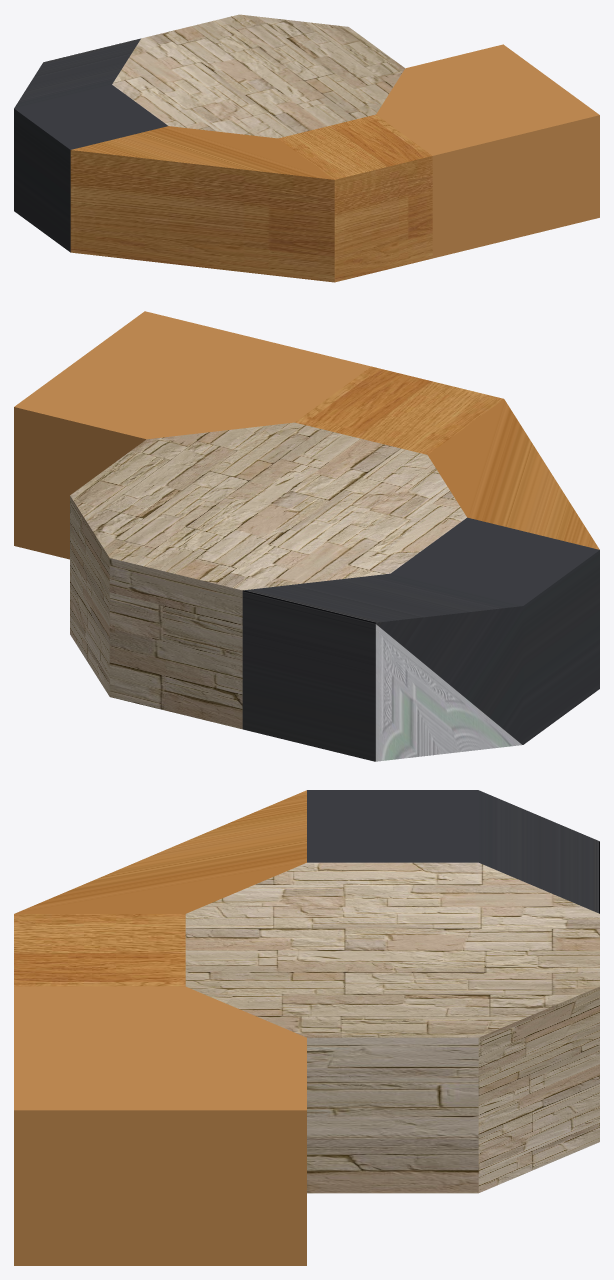
Rendered from floor2.fbx.
3 views of the same model, one above another, from view 1: azimuth 30°, elevation 25°; view 2: azimuth 150°, elevation 25°; view 3: azimuth 270°, elevation 25° (orthographic). The views are drawn at different scales.
Parts seen in each view (by area): view 1: room13, room10, room9, room8, romm11; view 2: room9, romm11, room10, room13, room8; view 3: room9, room10, romm11, room13, room8.
Boxes of the visible parts, x1,y1,x2,y2 form: room13: (70,126,334,282); room10: (376,44,599,258); room9: (112,14,404,138); room8: (278,114,432,282); romm11: (14,38,167,252); room9: (70,422,466,729); romm11: (242,517,599,761); room10: (14,311,370,559); room13: (428,399,599,549); room8: (295,366,503,454); room9: (185,862,599,1193); room10: (14,986,306,1265); romm11: (307,790,599,913); room13: (14,790,306,913); room8: (14,914,185,986).
Bounding box in the file's own units: 2648 × 600 × 2048.
9 materials, 4 textured.
